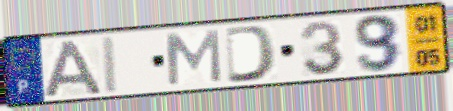3: (297, 18, 347, 78)
9: (351, 12, 405, 74)
A: (41, 38, 106, 99)
D: (222, 23, 280, 85)
I: (99, 33, 122, 96)
M: (164, 28, 225, 88)
